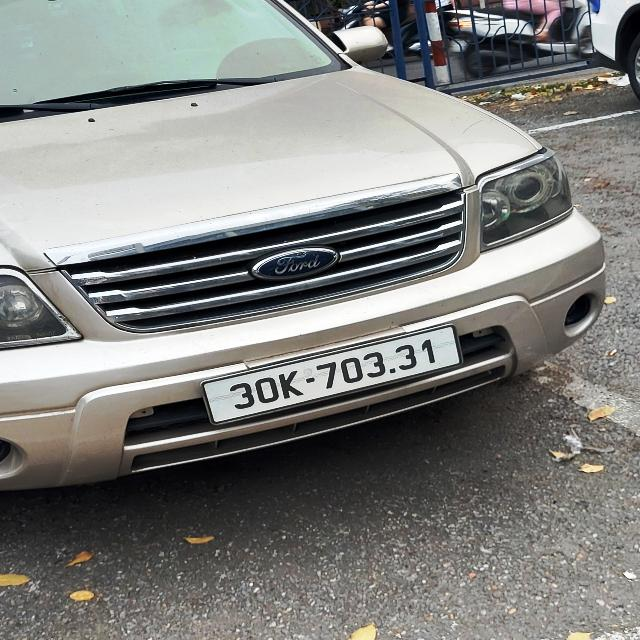license_plate: (198, 320, 470, 430)
